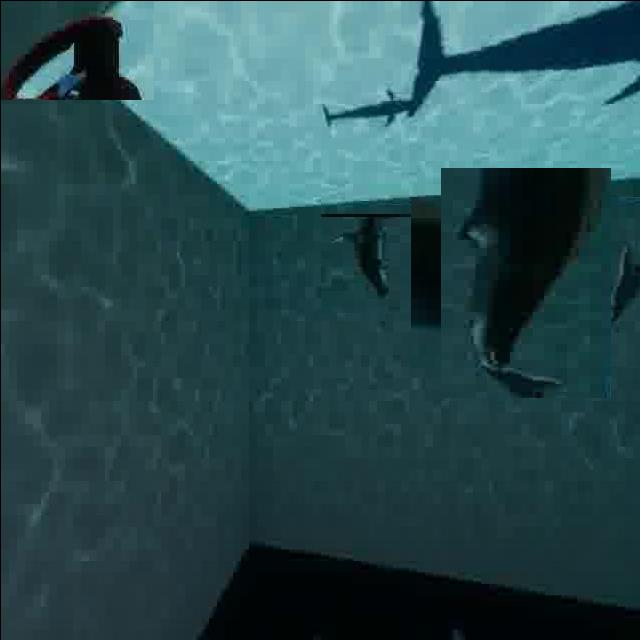Cylinder: (0, 0, 153, 99)
Whale: (425, 182, 625, 382), (317, 216, 412, 310)
